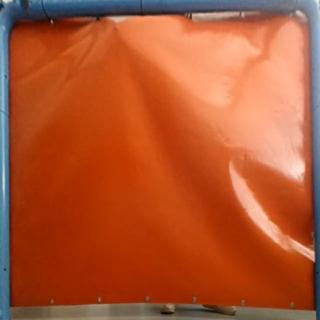Hit-hRxx: (109, 23, 121, 32)
